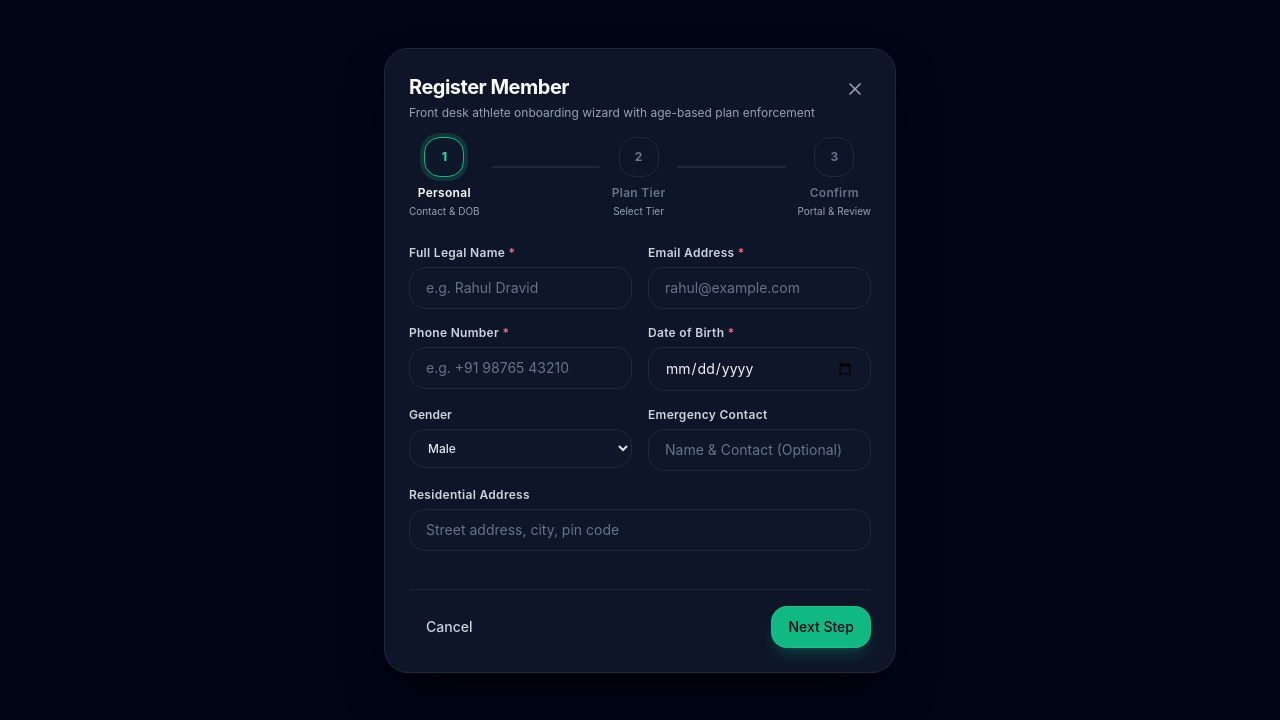
Test case: Members & Plans Module Frontend Suite › Register Member Wizard (Stepper & Age Rules) › skips Guardian step for adult member (>=18)
Type "Vikram Sharma" into the field labelled "Full Legal Name *" at (520, 288), box [409, 266, 632, 308]
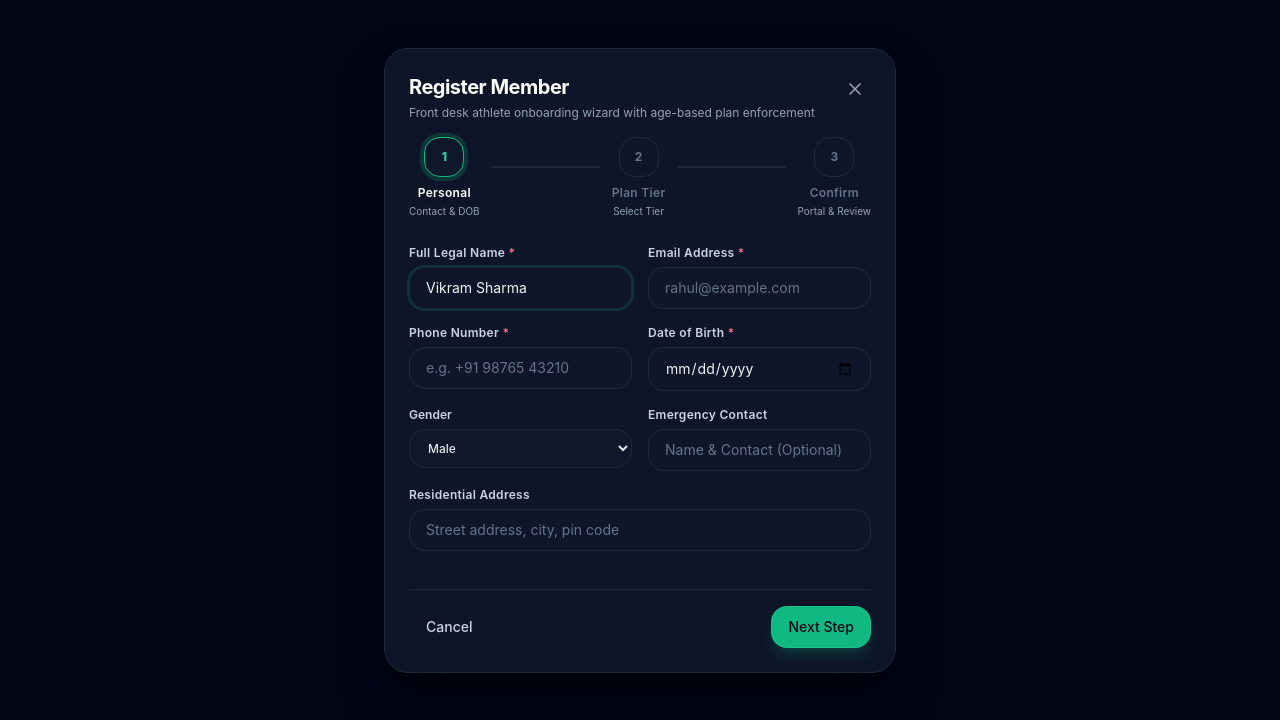
Type "vikram@sharma.com" into the field labelled "Email Address *" at (760, 288), box [648, 266, 871, 308]
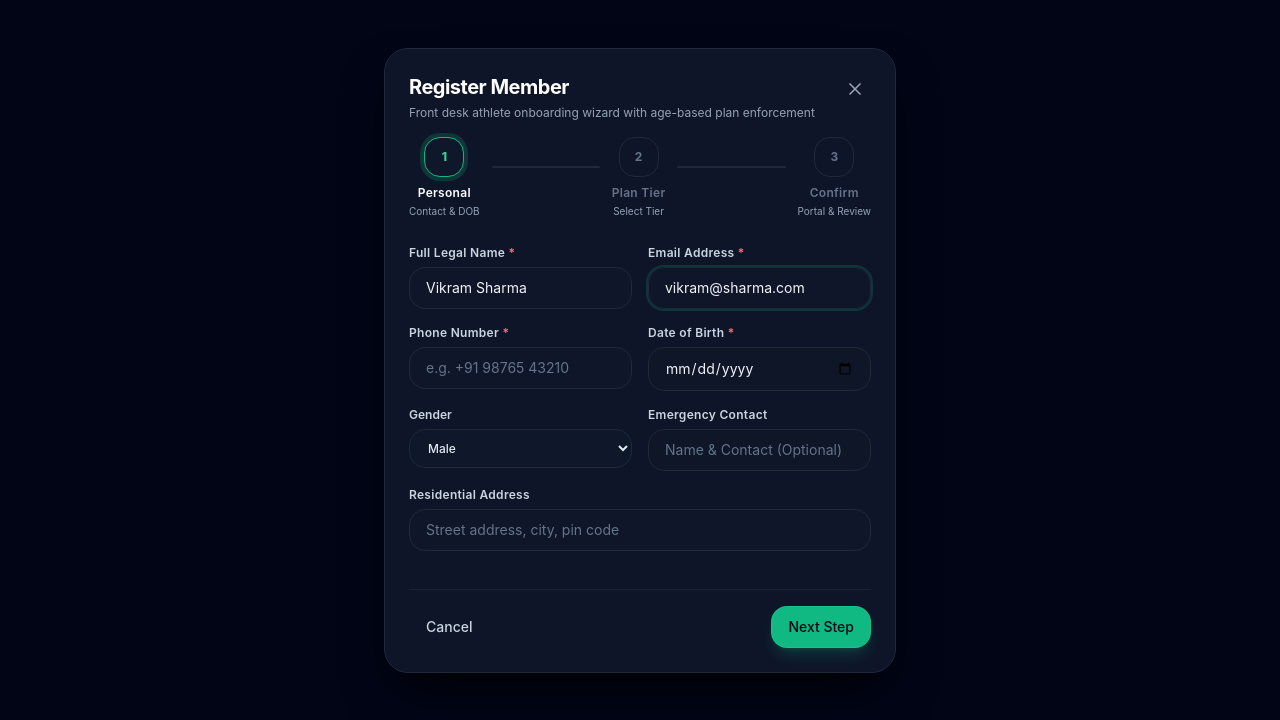
Type "9876543211" into the field labelled "Phone Number *" at (520, 368), box [409, 346, 632, 388]
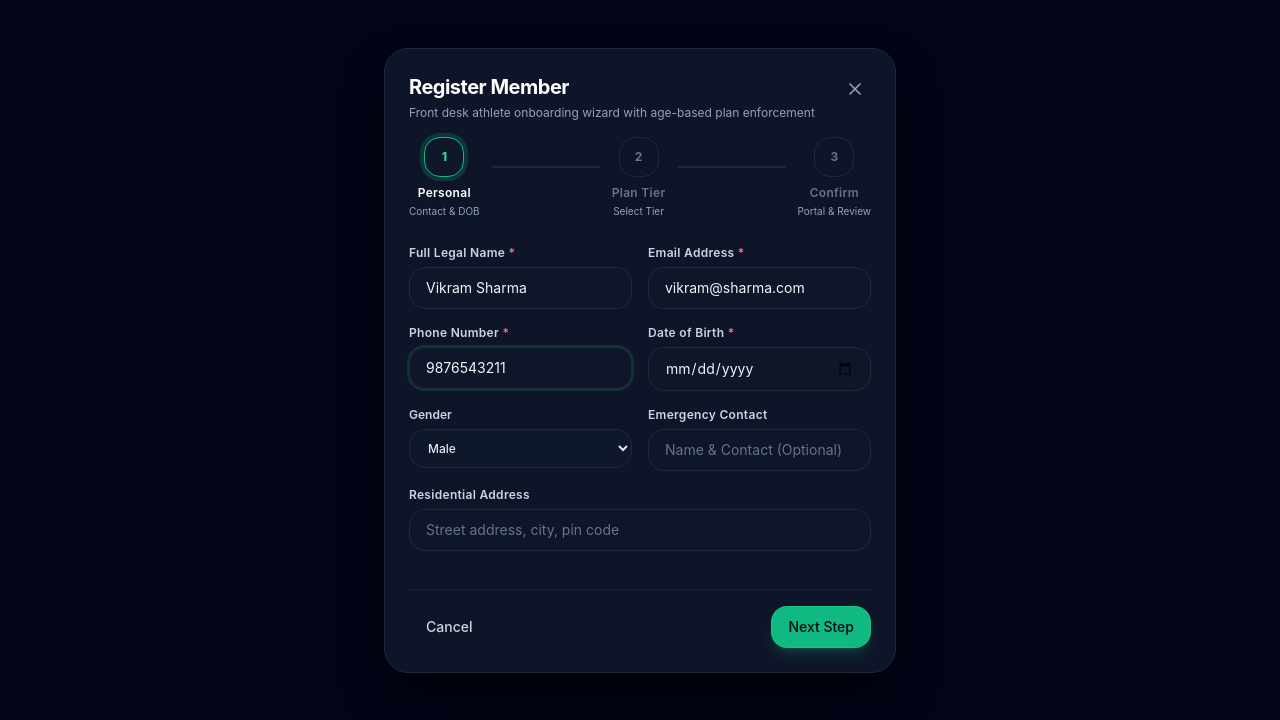
// Set DOB to 25 years old
Type "2001-01-01" into the date field labelled "Date of Birth *" at (760, 368), box [648, 346, 871, 390]
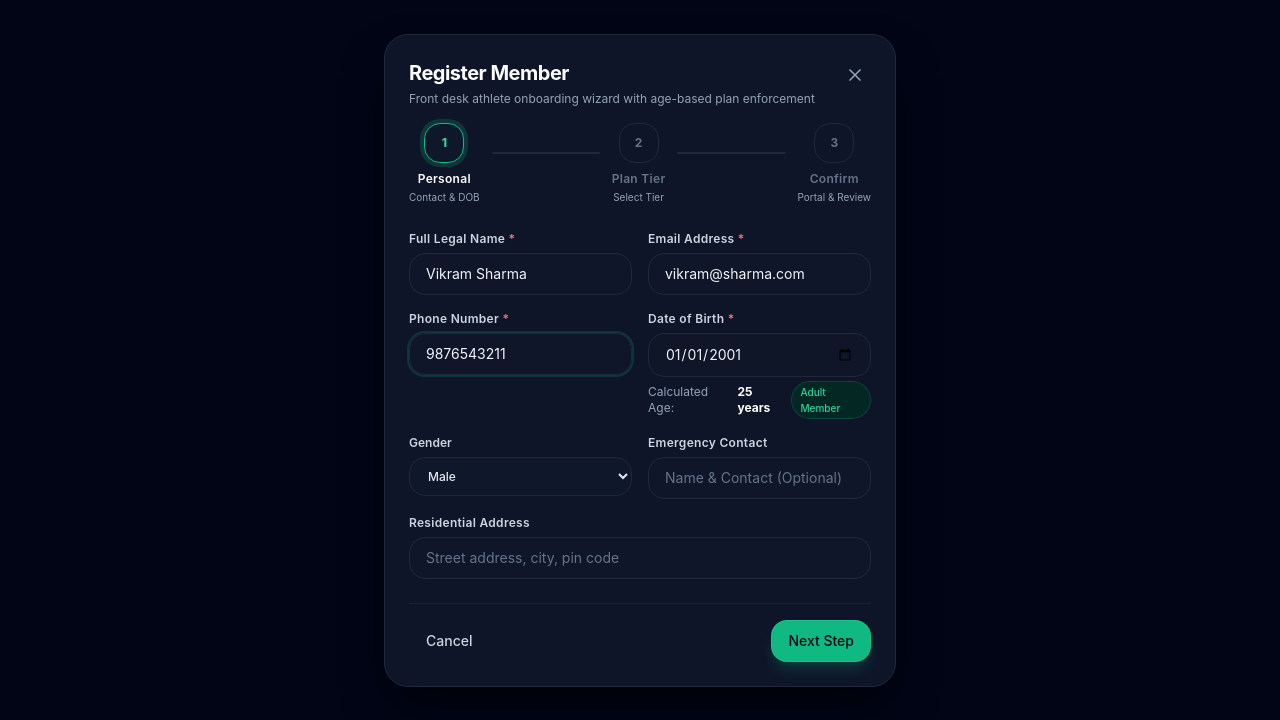
Check: the text "Adult Member" is shown, box [800, 386, 840, 414]
Click the button "Next Step" at (821, 640), box [771, 620, 871, 662]
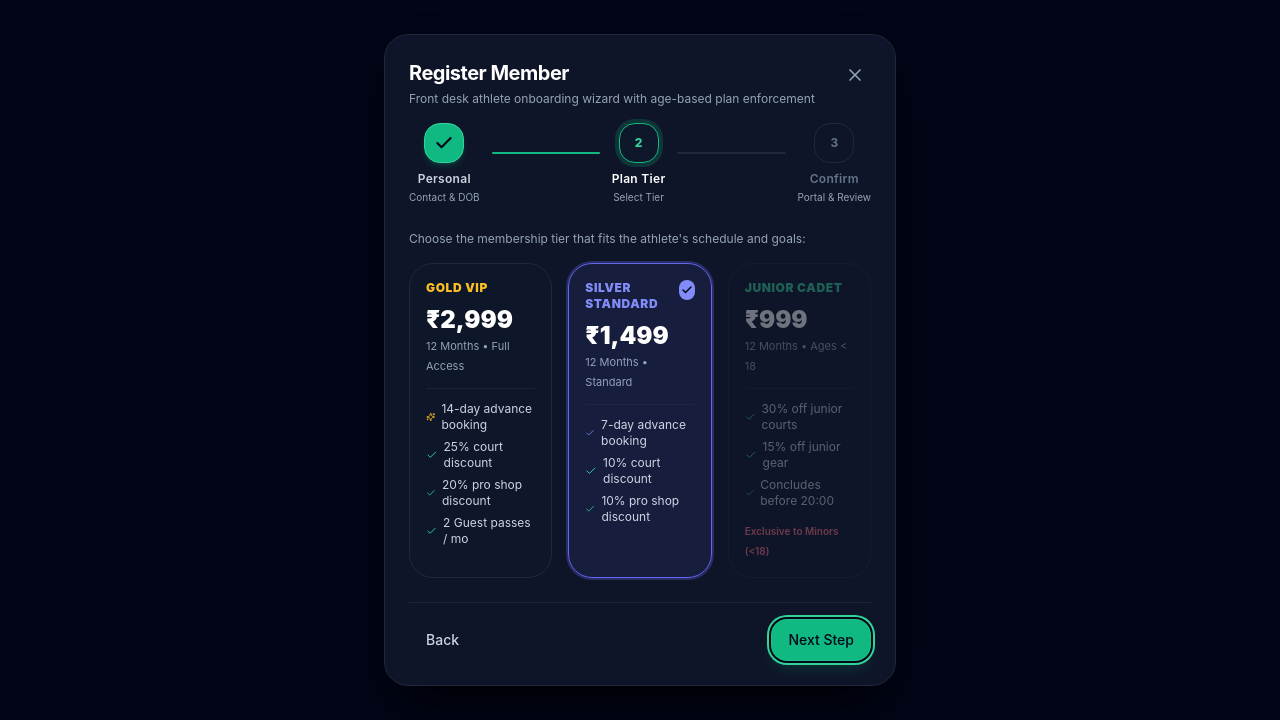
Check: the text "Choose the membership tier" is shown, box [409, 231, 806, 246]
